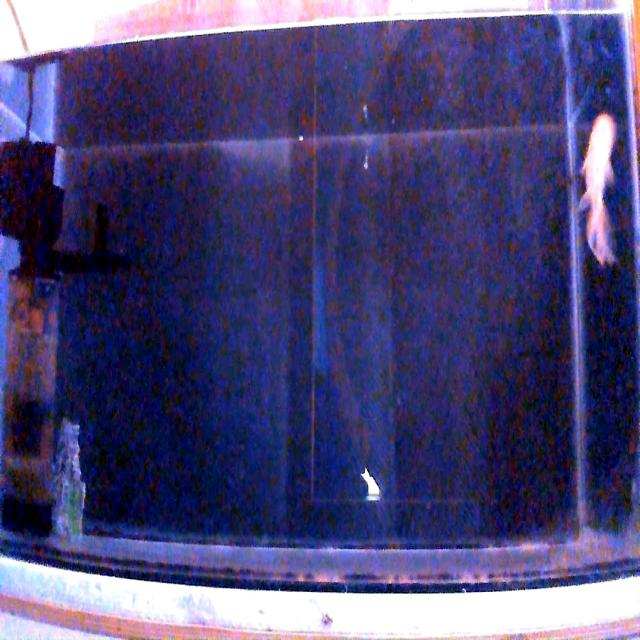fish: (577, 112, 619, 269)
